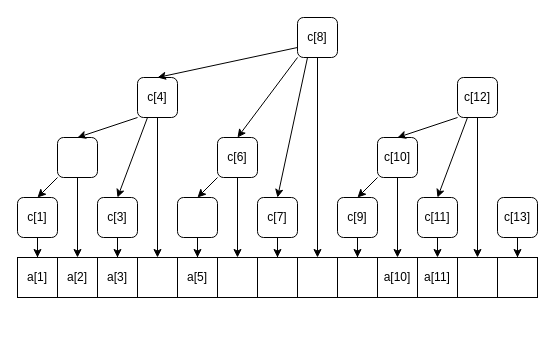
Image size: 555x355. Some labels were removed from this diagram. Each missing label, with the centre of its shape:
"a[12]" belongs at (477,277).
"a[13]" belongs at (517,277).
"a[4]" belongs at (157,277).
"a[6]" belongs at (237,277).
"a[7]" belongs at (277,277).
"a[8]" belongs at (317,277).
"a[9]" belongs at (357,277).
"c[2]" belongs at (77,157).
"c[5]" belongs at (197,217).
